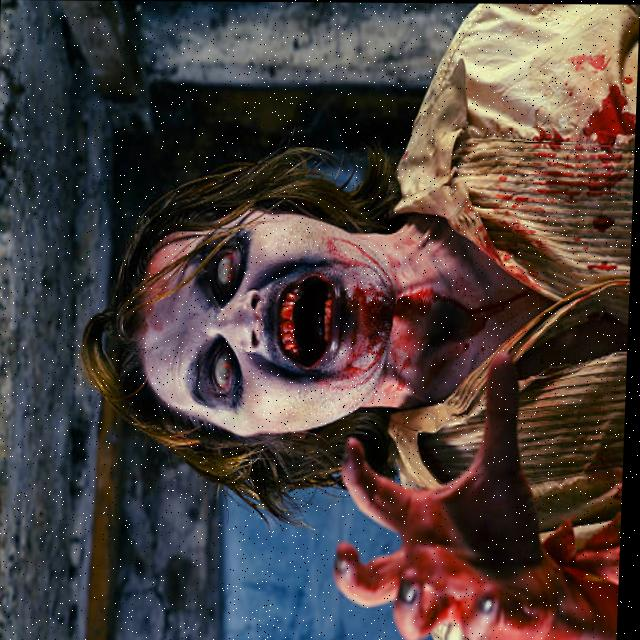Zombie: (156, 220, 389, 443)
